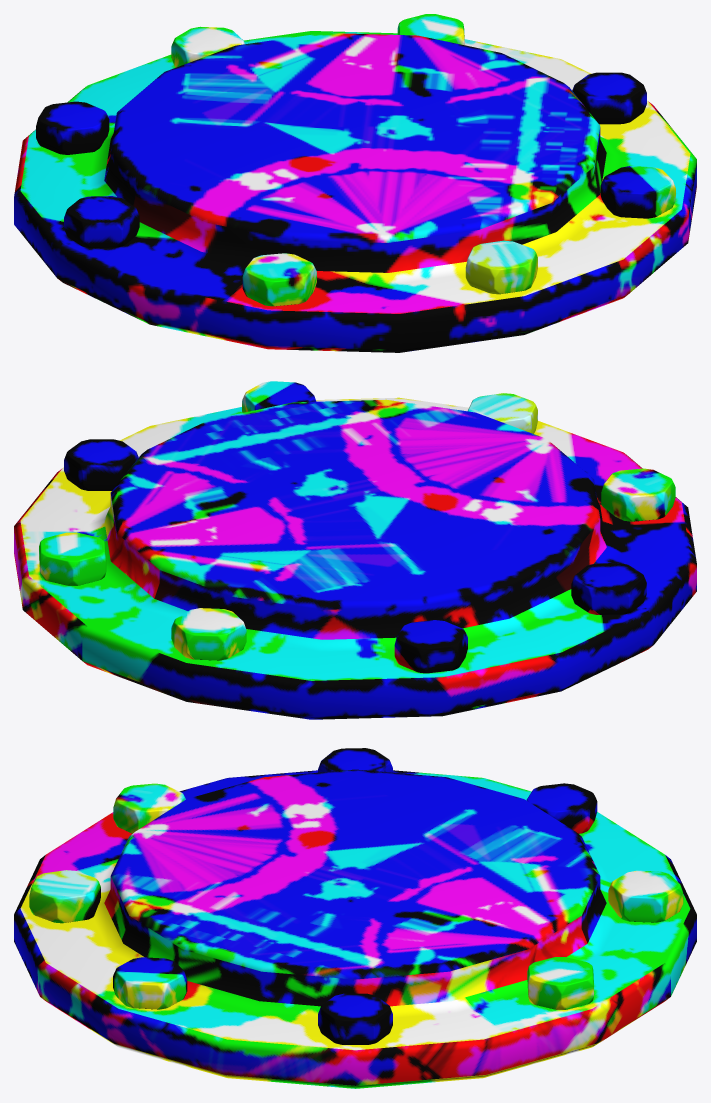
File: sm_PipeCap_01_01.fbx
3 views of the same model, one above another, from view 1: azimuth 30°, elevation 25°; view 2: azimuth 150°, elevation 25°; view 3: azimuth 270°, elevation 25° (orthographic).
Parts seen in each view (by area): view 1: sm_PipeCap_01_01_LOD0; view 2: sm_PipeCap_01_01_LOD0; view 3: sm_PipeCap_01_01_LOD0.
Boxes of the visible parts, x1=… form: sm_PipeCap_01_01_LOD0: x1=14, y1=14, x2=696, y2=352; sm_PipeCap_01_01_LOD0: x1=14, y1=381, x2=696, y2=719; sm_PipeCap_01_01_LOD0: x1=14, y1=748, x2=696, y2=1088.
Size of the model in its own units: 29.76 by 29.76 by 3.7.
